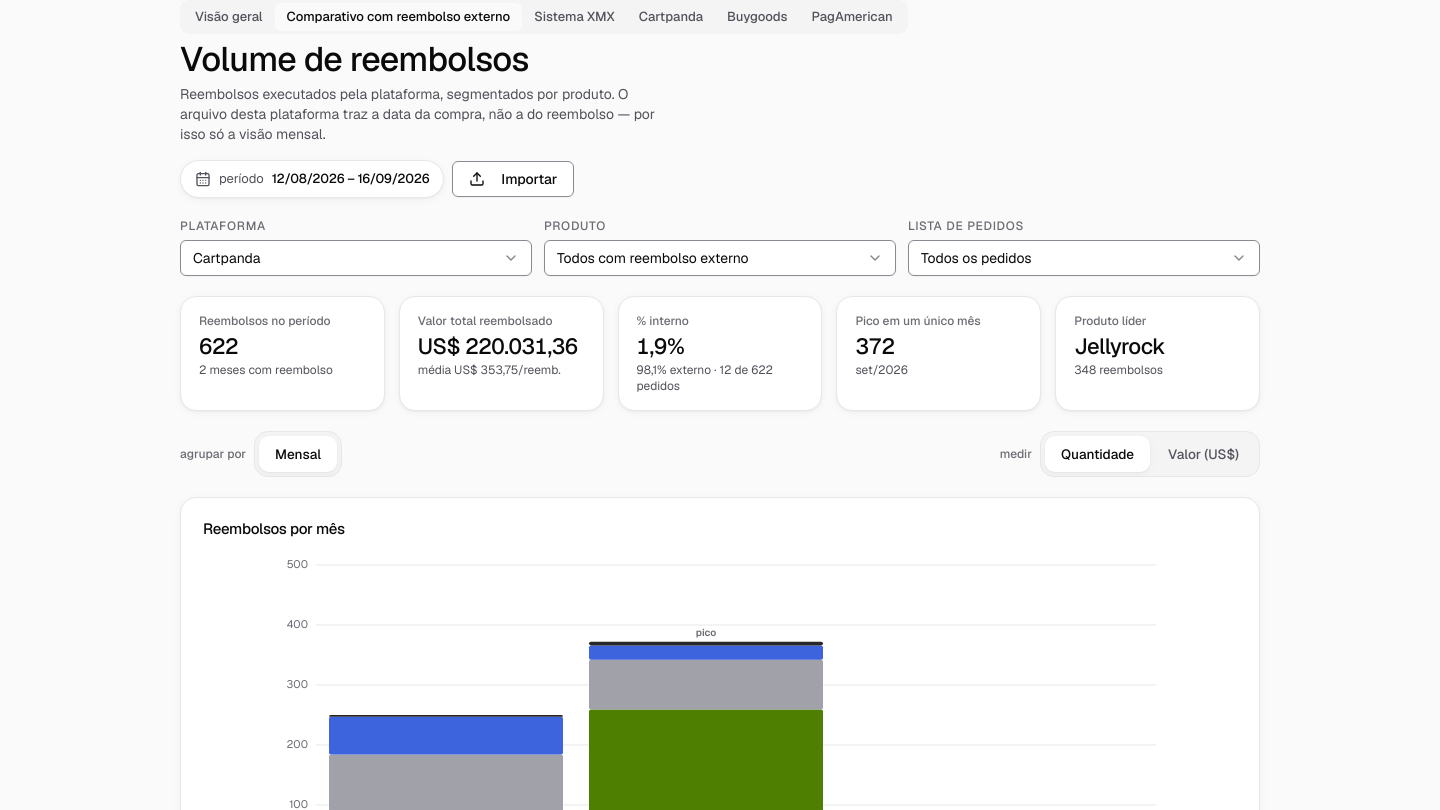
DashboardRefundsComparativo › tem seletor de período com calendário e atalhos por mês
Click the button with aria-label "Escolher o período".
click(312, 179)  # box [180,160,444,198]
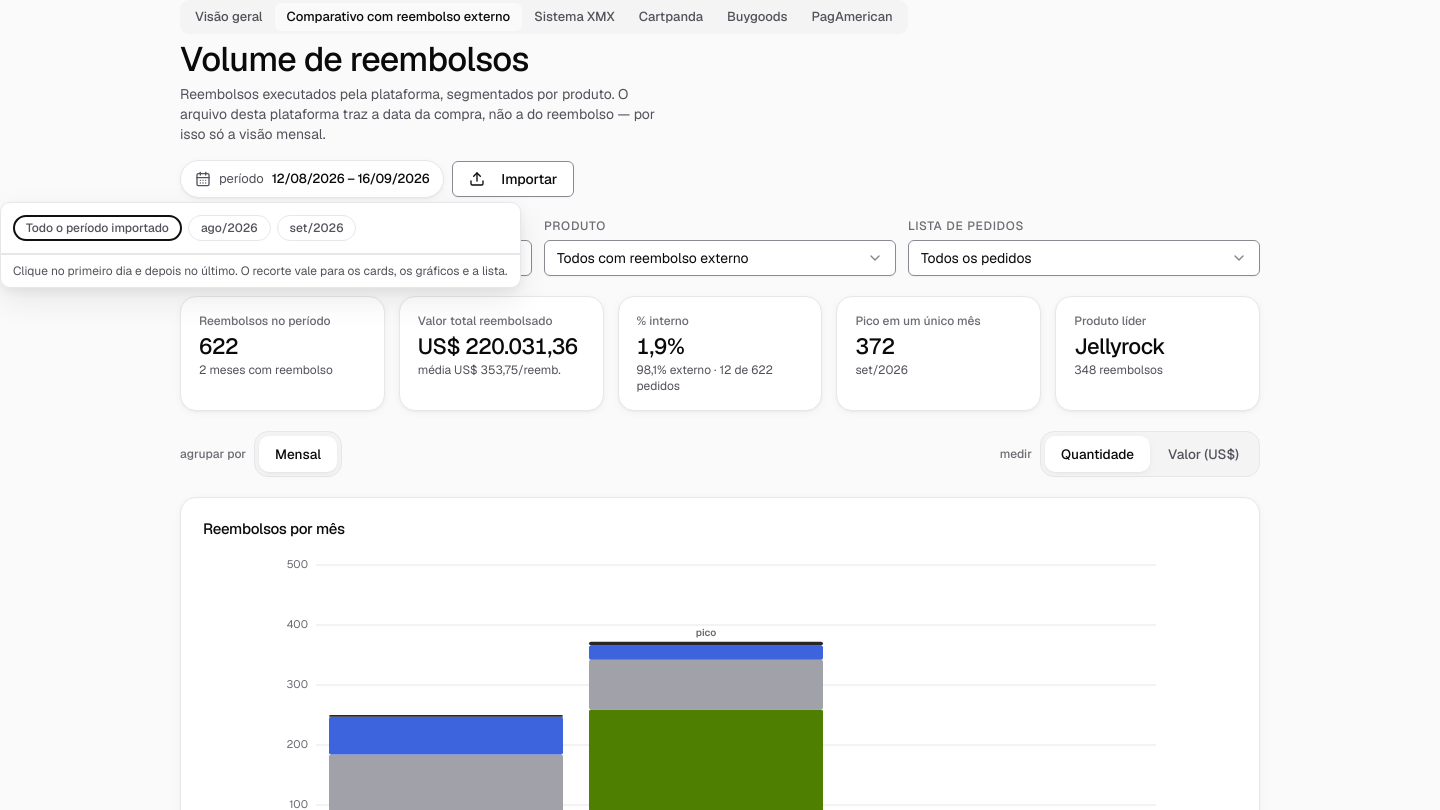
Check: the button "Todo o período importado" is shown, box [13,215,182,241]
